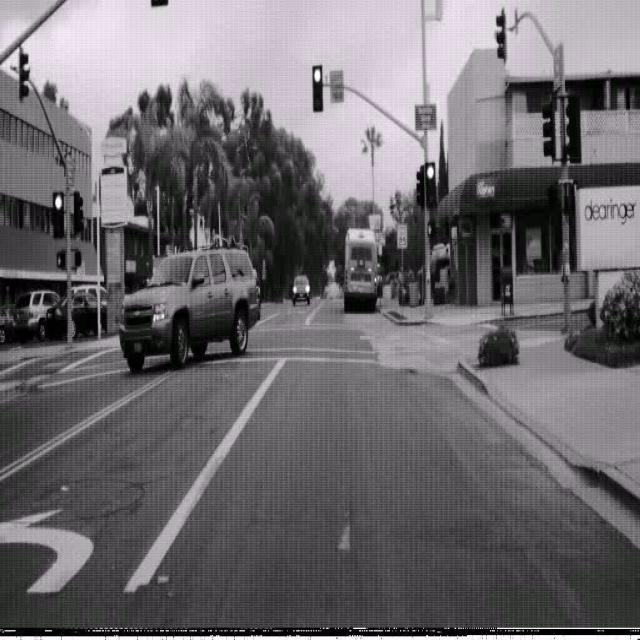speedLimit25: (397, 222, 408, 249)
